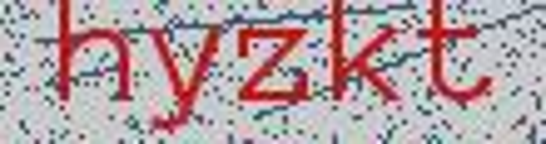h: (47, 1, 141, 115)
k: (324, 1, 402, 111)
t: (411, 1, 496, 112)
y: (145, 21, 227, 139)
z: (234, 15, 312, 109)
